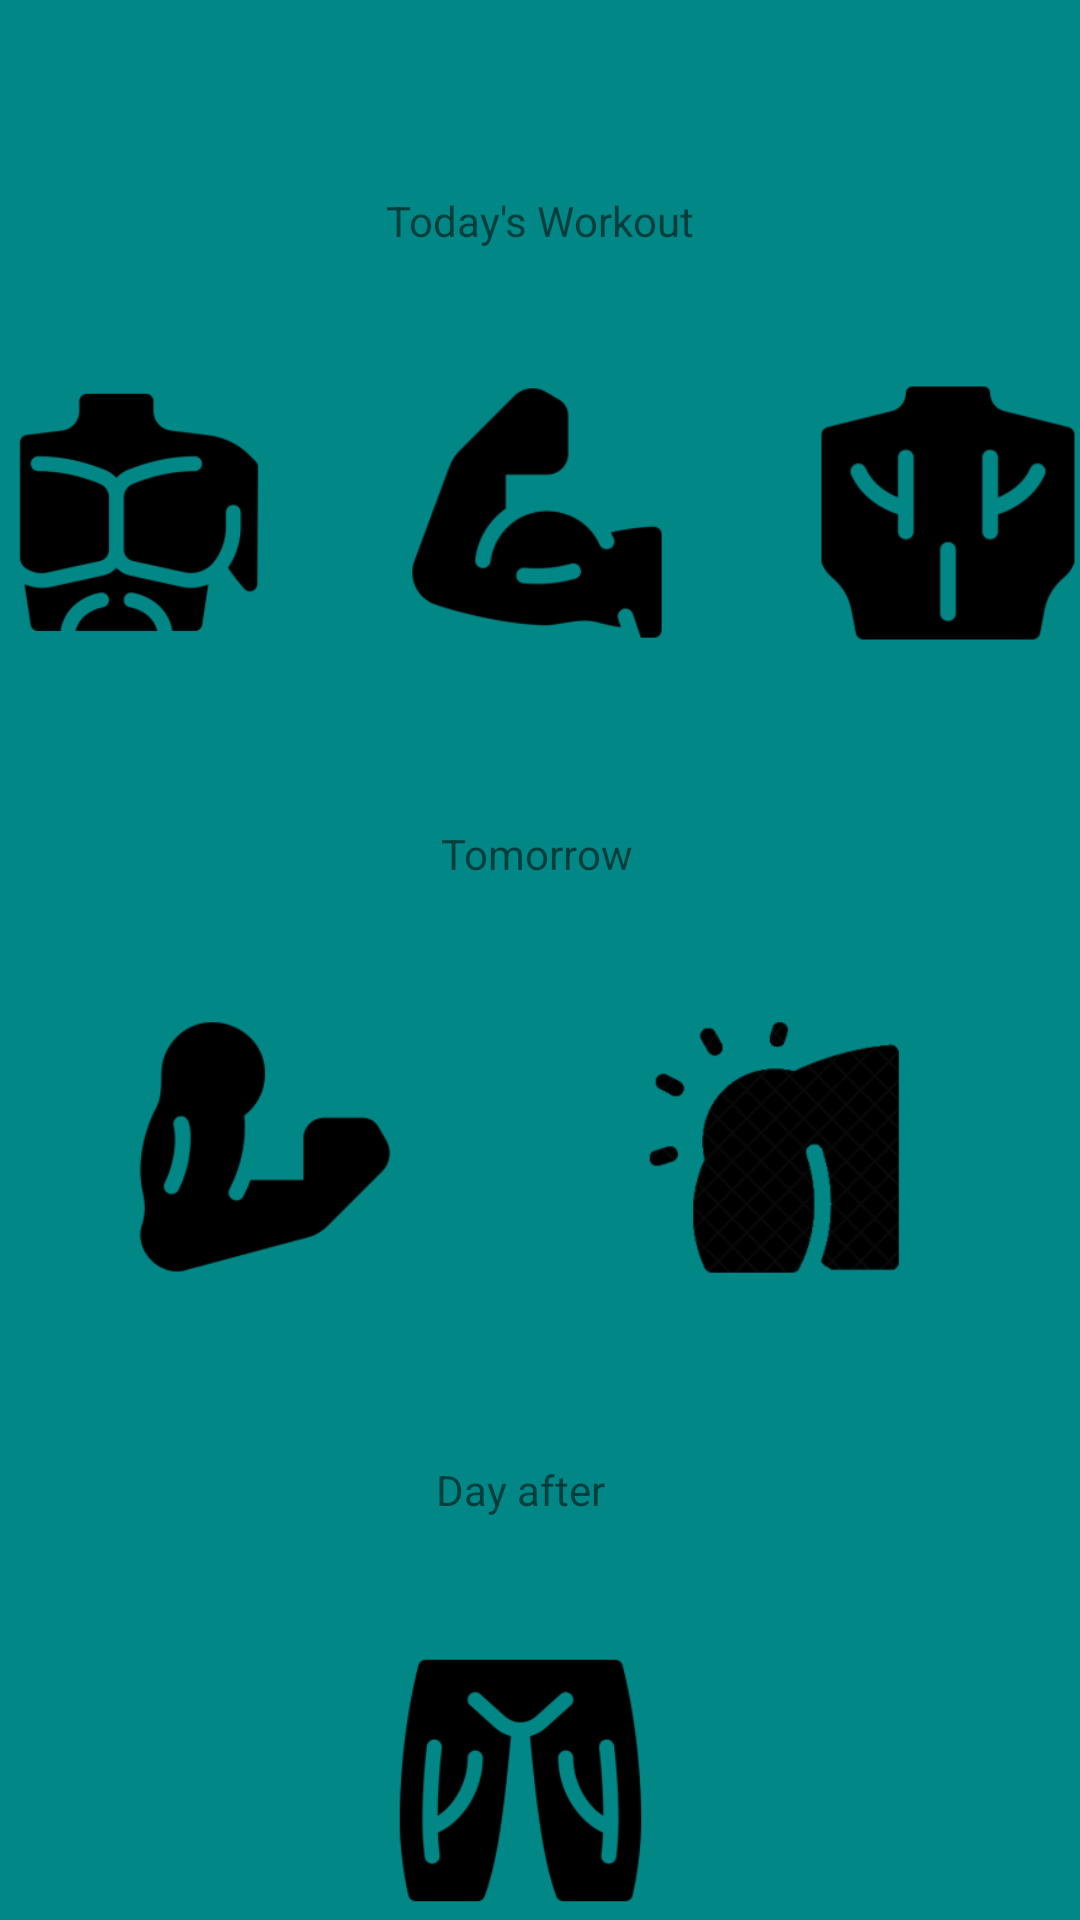

Locate icon controls on the screen. Image size 1080px×1920px, boxes as (x1, y1, x2, y2).
biceps: (412, 388, 662, 638)
shoulder: (649, 1022, 899, 1273)
tricep: (140, 1022, 390, 1272)
